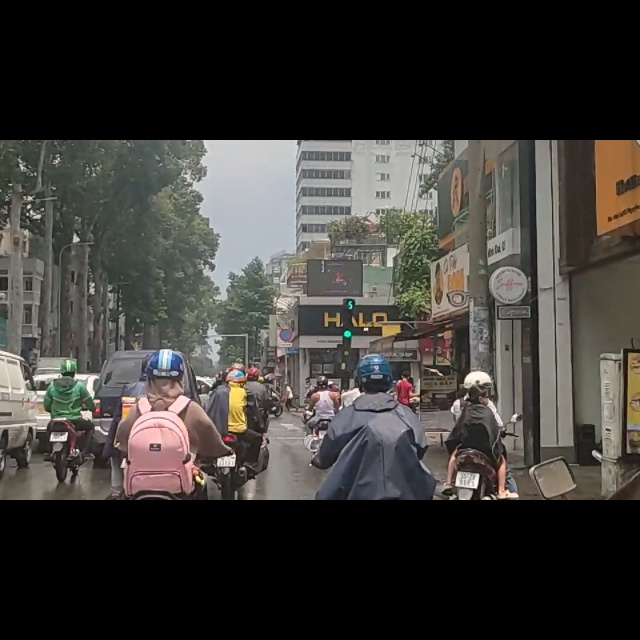bien_cam: (278, 334, 293, 360)
